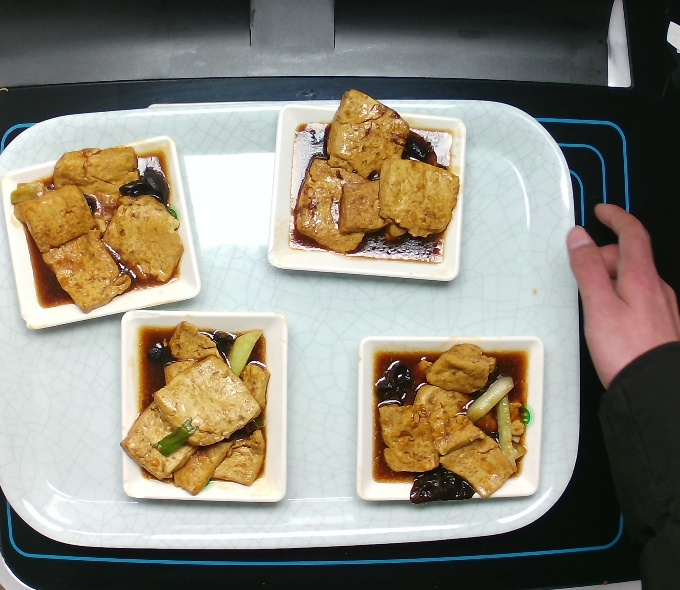wcq-JiaChangDouFu: (283, 86, 463, 268), (7, 142, 187, 314), (116, 318, 274, 500), (367, 340, 532, 506)
